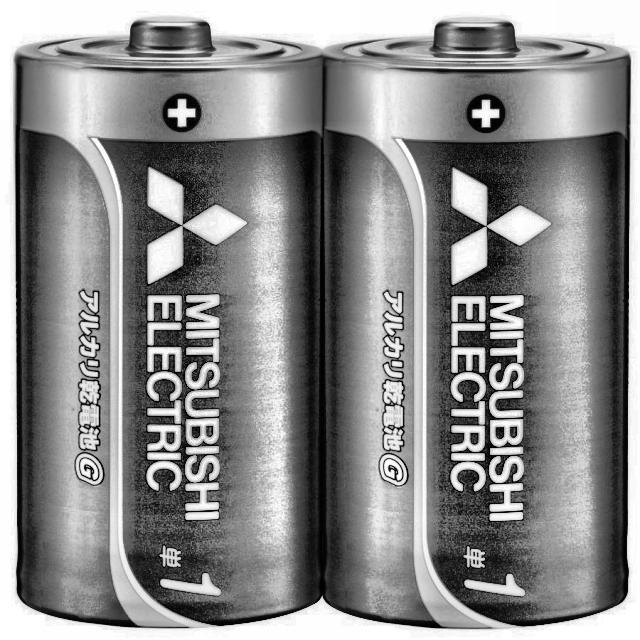drycell: (12, 12, 324, 627), (322, 14, 632, 632)
